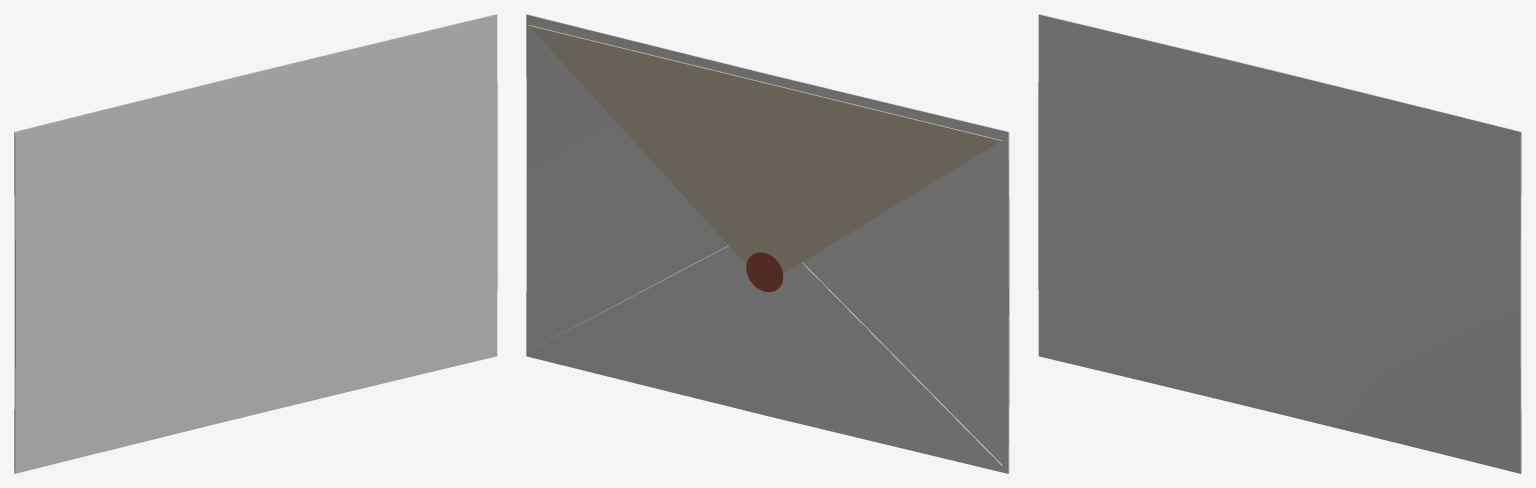
File: inspect_envelope.glb
The picture shows the model from 3 angles, left to right: view 1: azimuth 30°, elevation 25°; view 2: azimuth 150°, elevation 25°; view 3: azimuth 330°, elevation 25°; orthographic projection.
Visible parts, largest first — view 1: inspect_envelope-0, inspect_envelope_lod-0, inspect_envelope-1, inspect_envelope_lod-1; view 2: inspect_envelope_lod-0, inspect_envelope_lod-1, inspect_envelope-0, inspect_envelope-1, inspect_envelope-3, inspect_envelope-2; view 3: inspect_envelope-0, inspect_envelope_lod-0, inspect_envelope-1, inspect_envelope_lod-1.
Boxes of the visible parts, <box> form: inspect_envelope-0: <box>15,14,497,473</box>; inspect_envelope_lod-0: <box>80,32,432,455</box>; inspect_envelope-1: <box>14,14,496,469</box>; inspect_envelope_lod-1: <box>14,14,496,473</box>; inspect_envelope_lod-0: <box>526,14,1008,473</box>; inspect_envelope_lod-1: <box>527,14,1009,473</box>; inspect_envelope-0: <box>591,32,943,456</box>; inspect_envelope-1: <box>527,14,1009,472</box>; inspect_envelope-3: <box>746,252,783,292</box>; inspect_envelope-2: <box>529,245,1002,465</box>; inspect_envelope-0: <box>1038,14,1520,473</box>; inspect_envelope_lod-0: <box>1103,32,1455,455</box>; inspect_envelope-1: <box>1039,14,1521,473</box>; inspect_envelope_lod-1: <box>1039,14,1521,473</box>.
Bounding box in the file's own units: 0.155 × 0.105 × 0.00216.
